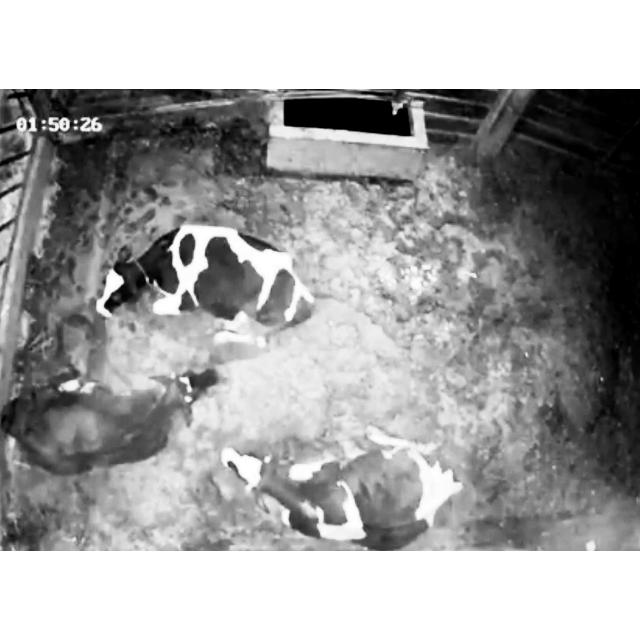lay: (84, 214, 328, 358), (212, 423, 458, 549), (0, 368, 224, 470)
